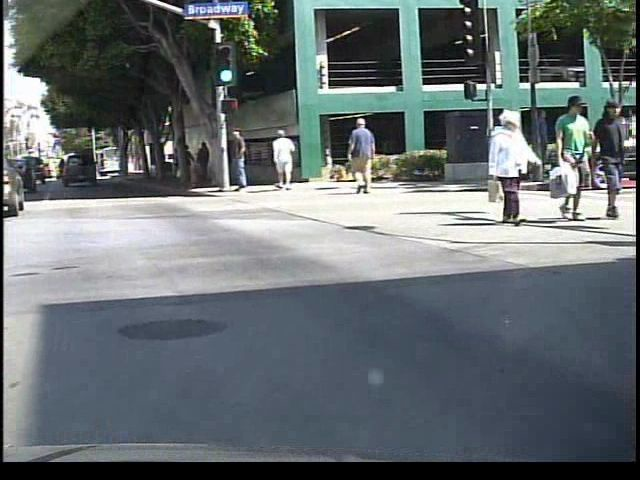person: (485, 108, 542, 227), (554, 95, 594, 224), (592, 100, 630, 221), (348, 117, 385, 194), (529, 105, 560, 181), (229, 122, 258, 202), (273, 126, 301, 194), (201, 138, 217, 183), (185, 142, 200, 187)
